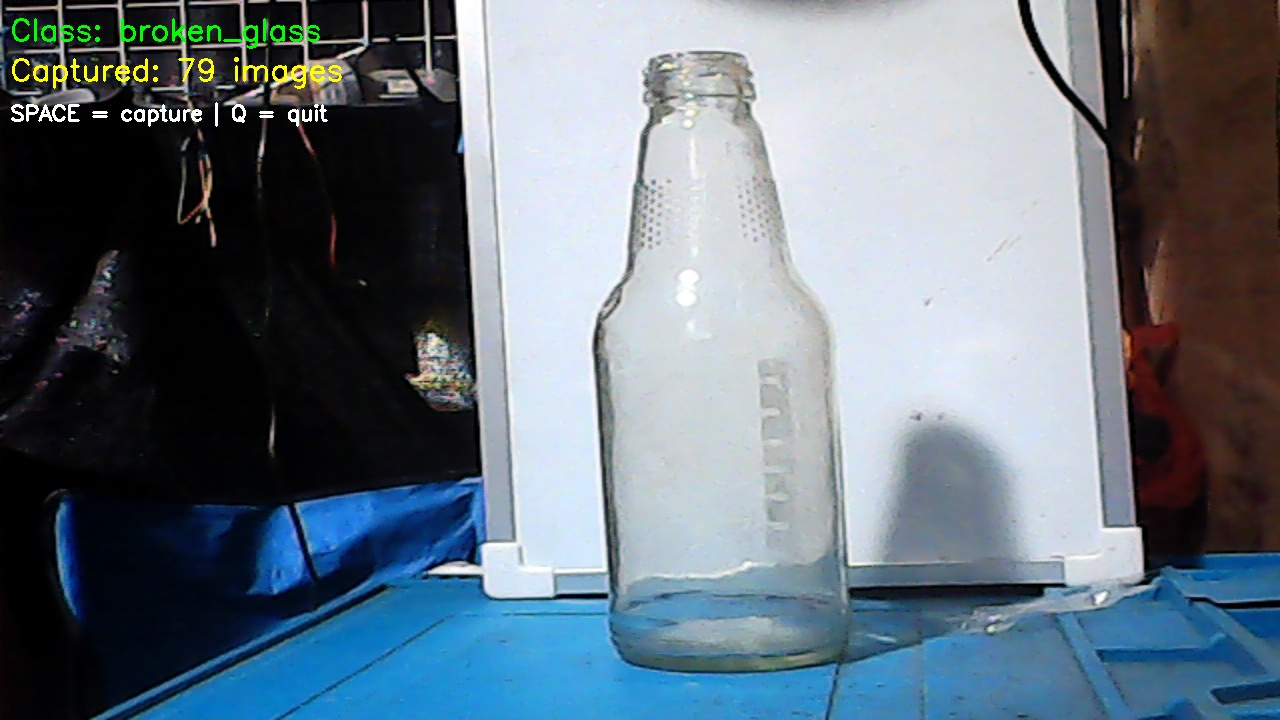broken_glass: (589, 36, 808, 285)
